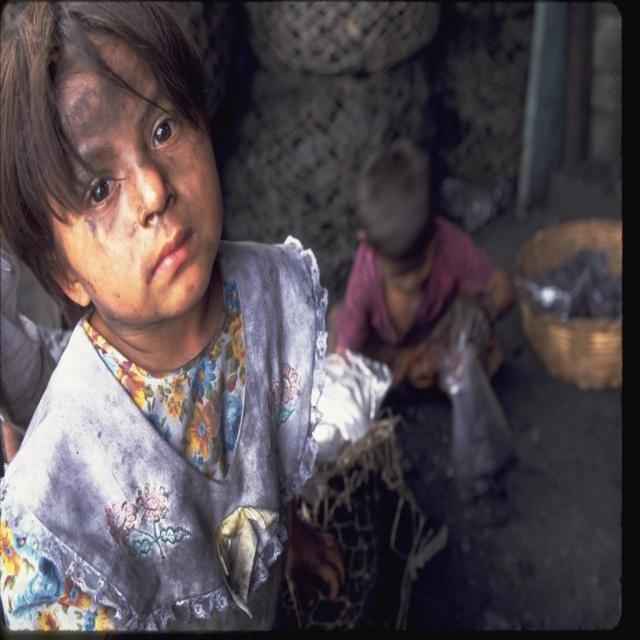Face: (43, 51, 225, 326)
